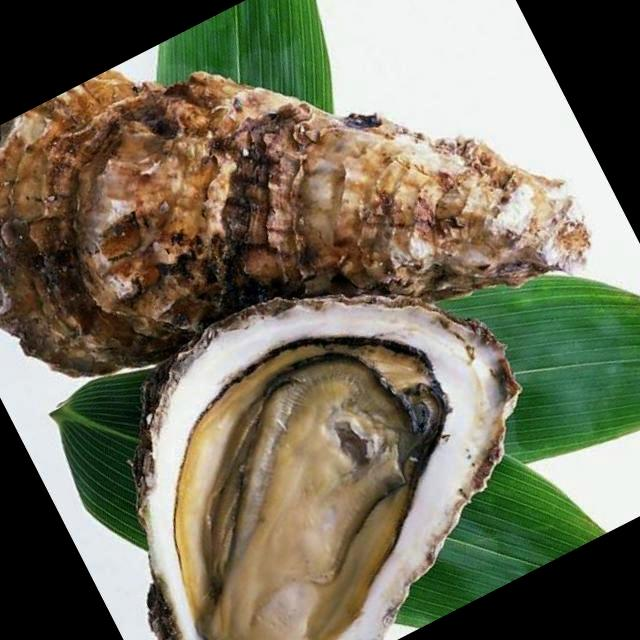Oyster-Closed: (0, 50, 613, 392)
Oyster-Open: (112, 276, 536, 640)
